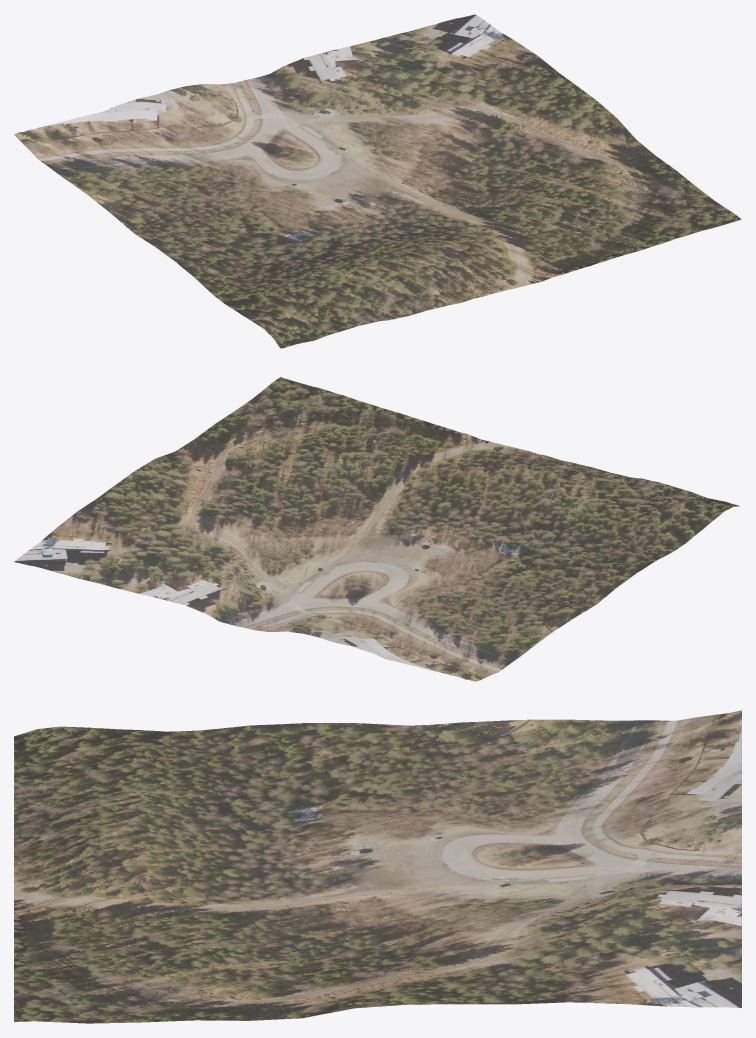
The model's file is CM_Terrain_24490868_6816722.fbx.
3 renders of one model, top to bottom at view 1: azimuth 30°, elevation 25°; view 2: azimuth 150°, elevation 25°; view 3: azimuth 270°, elevation 25°, orthographic. The views are drawn at different scales.
Parts seen in each view (by area): view 1: CM_Terrain_24490868_6816722_LOD0; view 2: CM_Terrain_24490868_6816722_LOD0; view 3: CM_Terrain_24490868_6816722_LOD0.
Boxes of the visible parts, box(x1,y1,x2,y2) form: CM_Terrain_24490868_6816722_LOD0: box(14, 14, 741, 348); CM_Terrain_24490868_6816722_LOD0: box(14, 377, 739, 681); CM_Terrain_24490868_6816722_LOD0: box(14, 710, 741, 1023).
Size of what is drawn, in the model's own units: 205 by 13.18 by 205.
